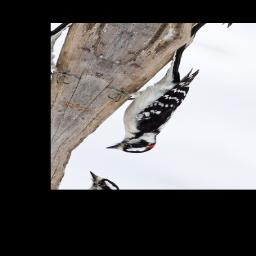Woodpecker: (70, 30, 221, 163)
